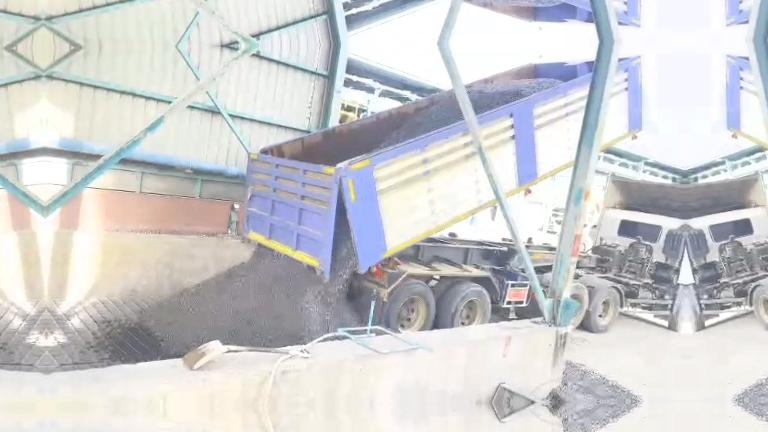gravel: (137, 206, 359, 357), (378, 96, 462, 148), (547, 361, 642, 402), (467, 79, 561, 114)
